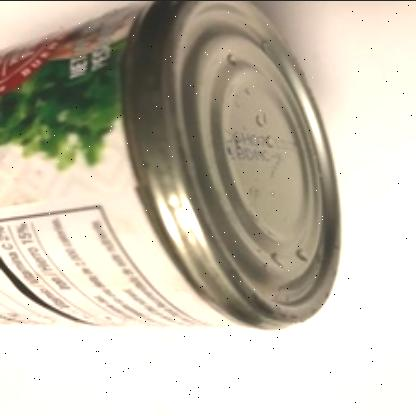Can: (0, 0, 342, 326)
